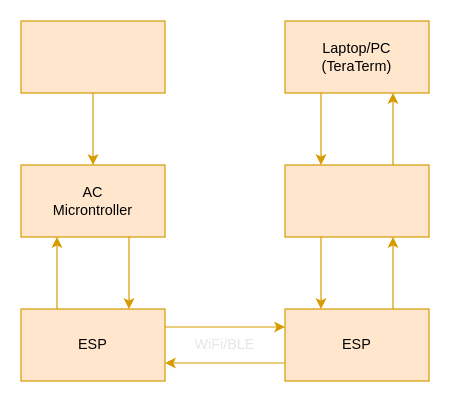
Some shapes in this 450 by 402 pixel diagram are drawn without their labels. The shapes that lost their labels are listed below. From the top down, each one's centre as x and y in pixels, then its label:
At point (92, 56): "Sensor".
At point (356, 200): "AC Control Unit Microcontroller".
